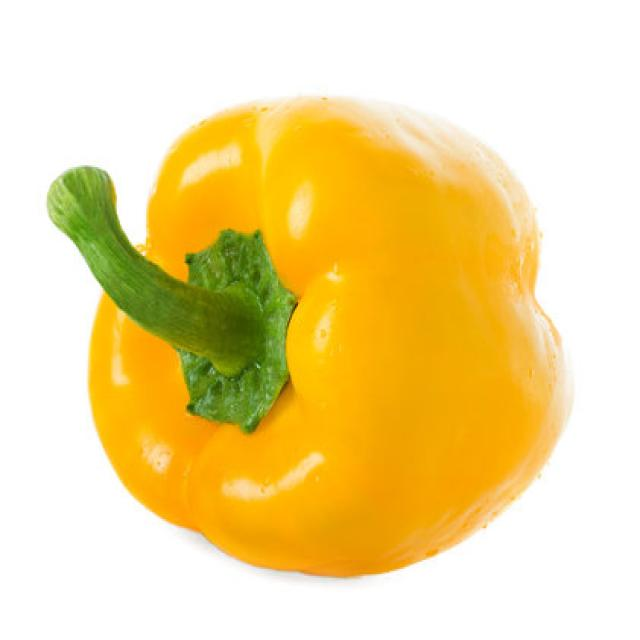Bell Pepper: (42, 84, 568, 570)
